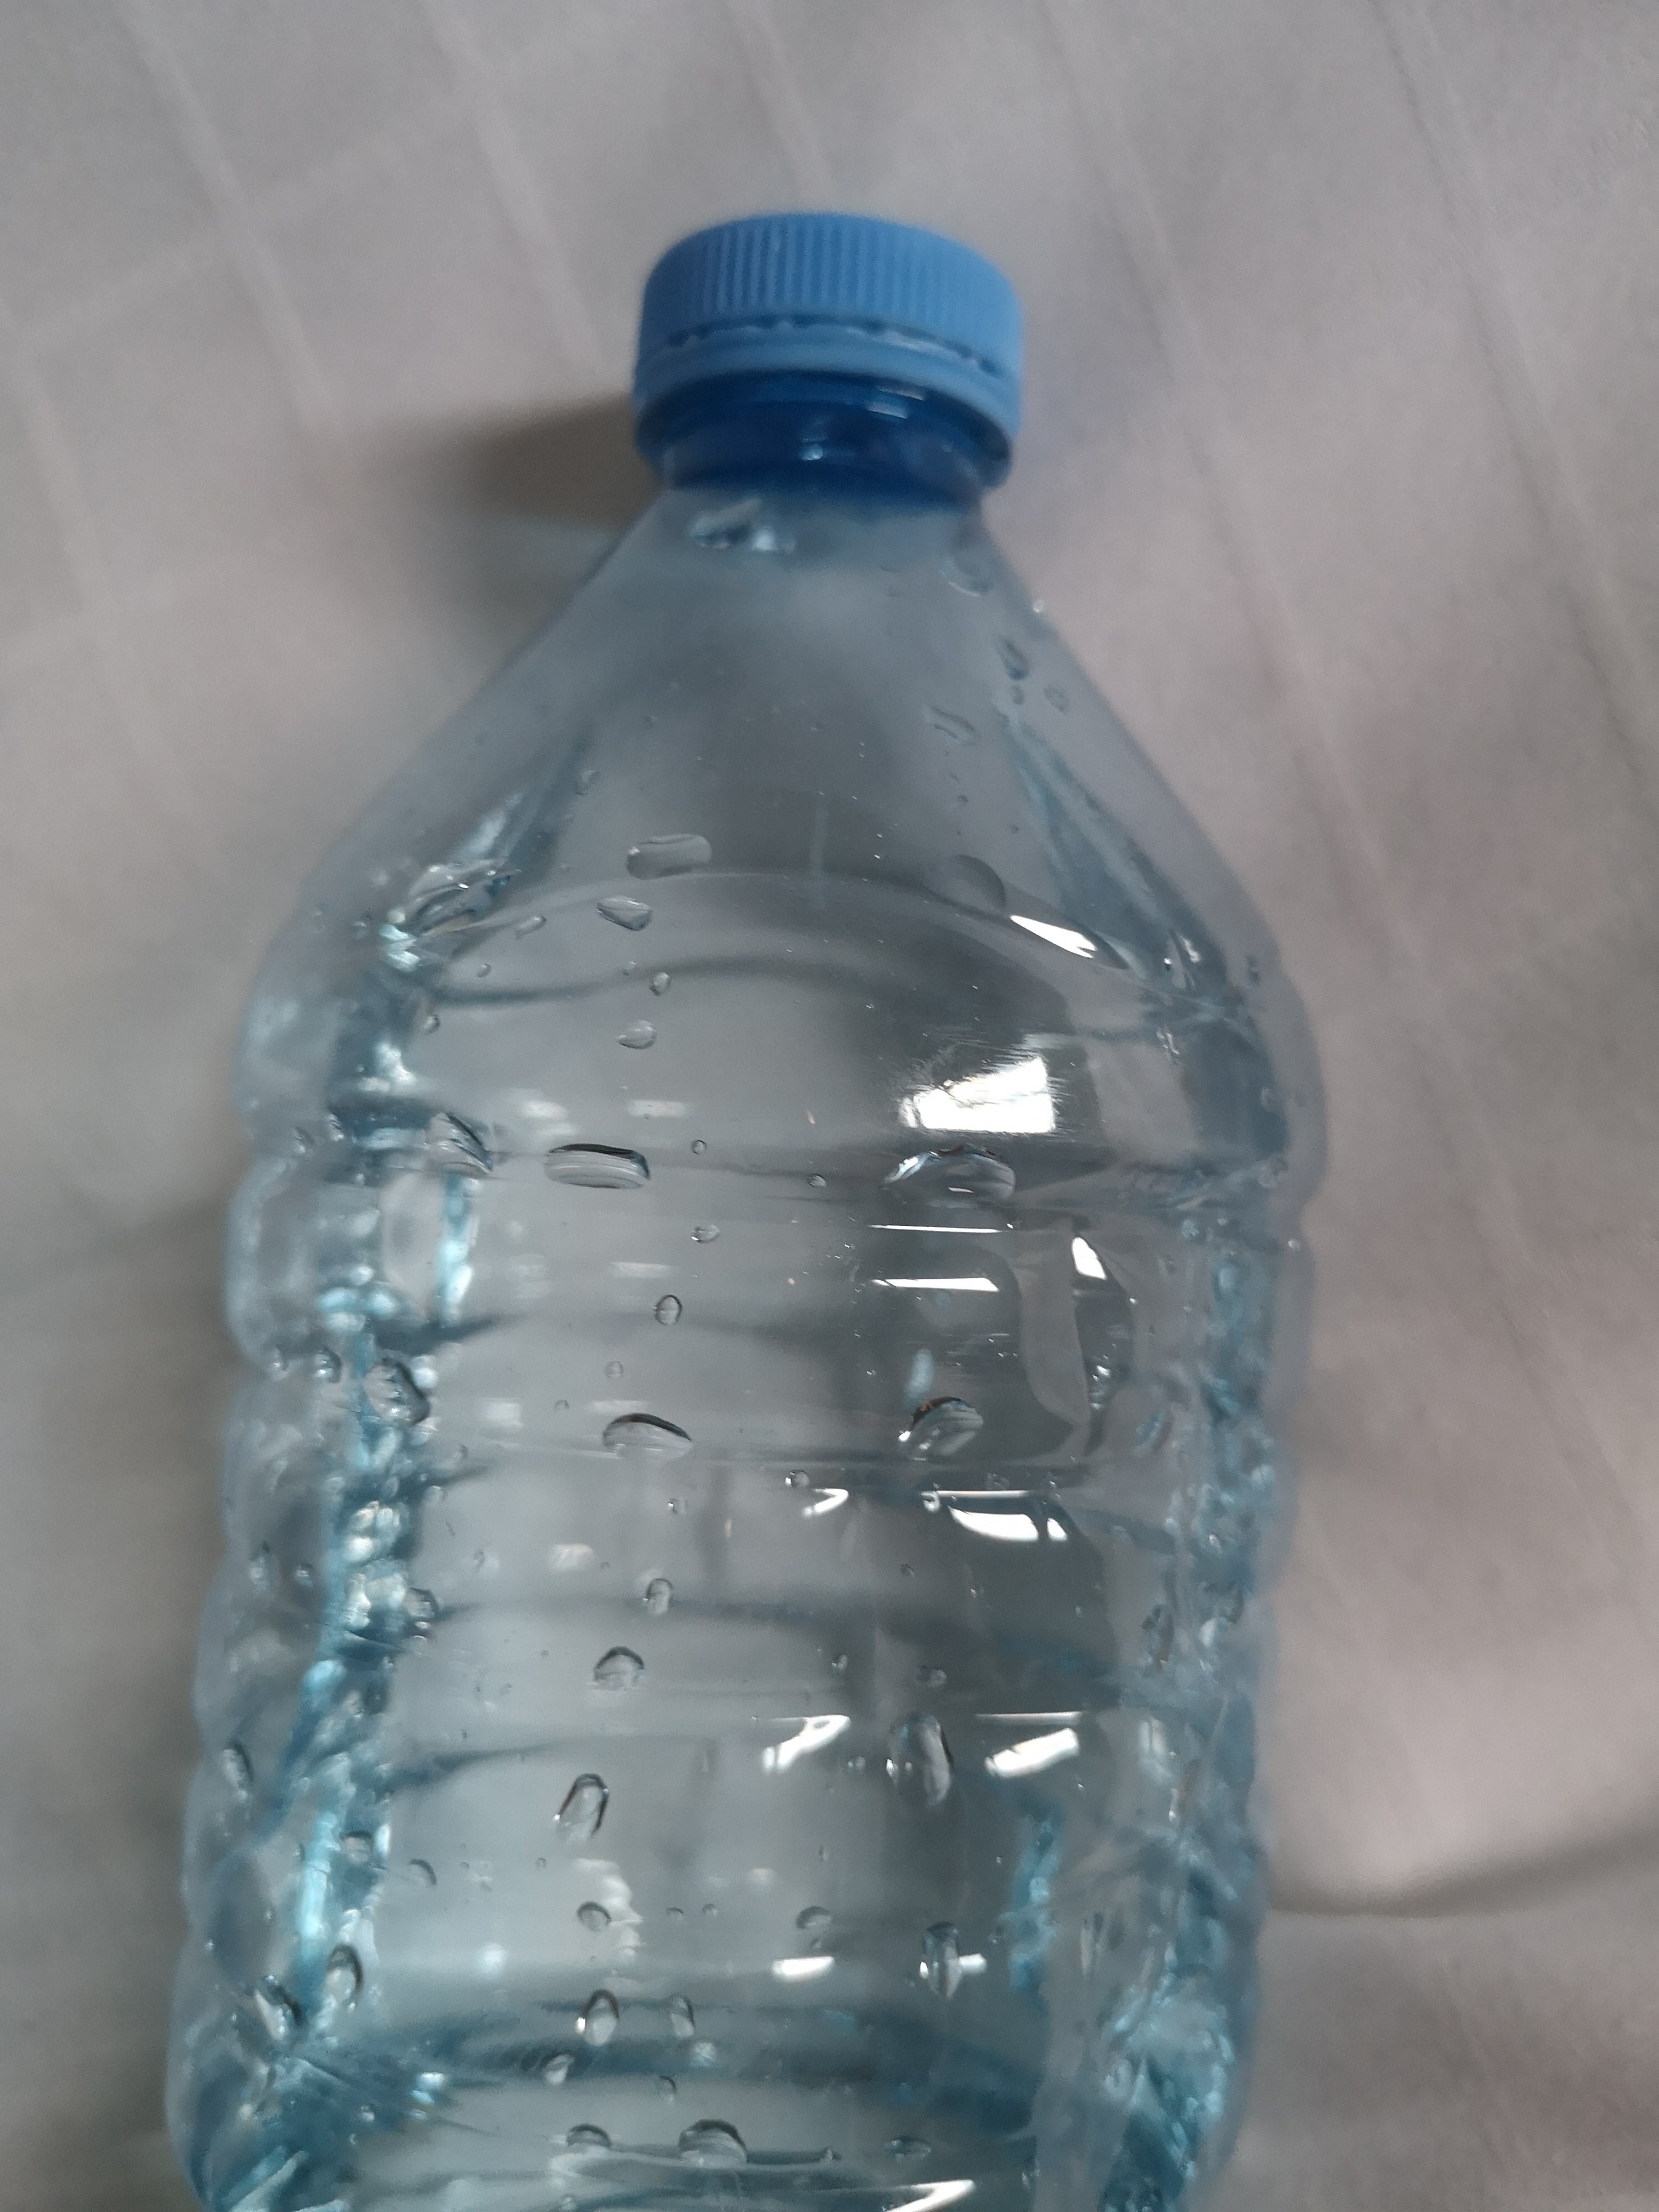plastic_bottle: (171, 153, 1378, 2212)
